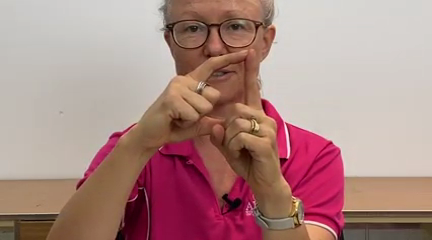D: (130, 43, 291, 183)
